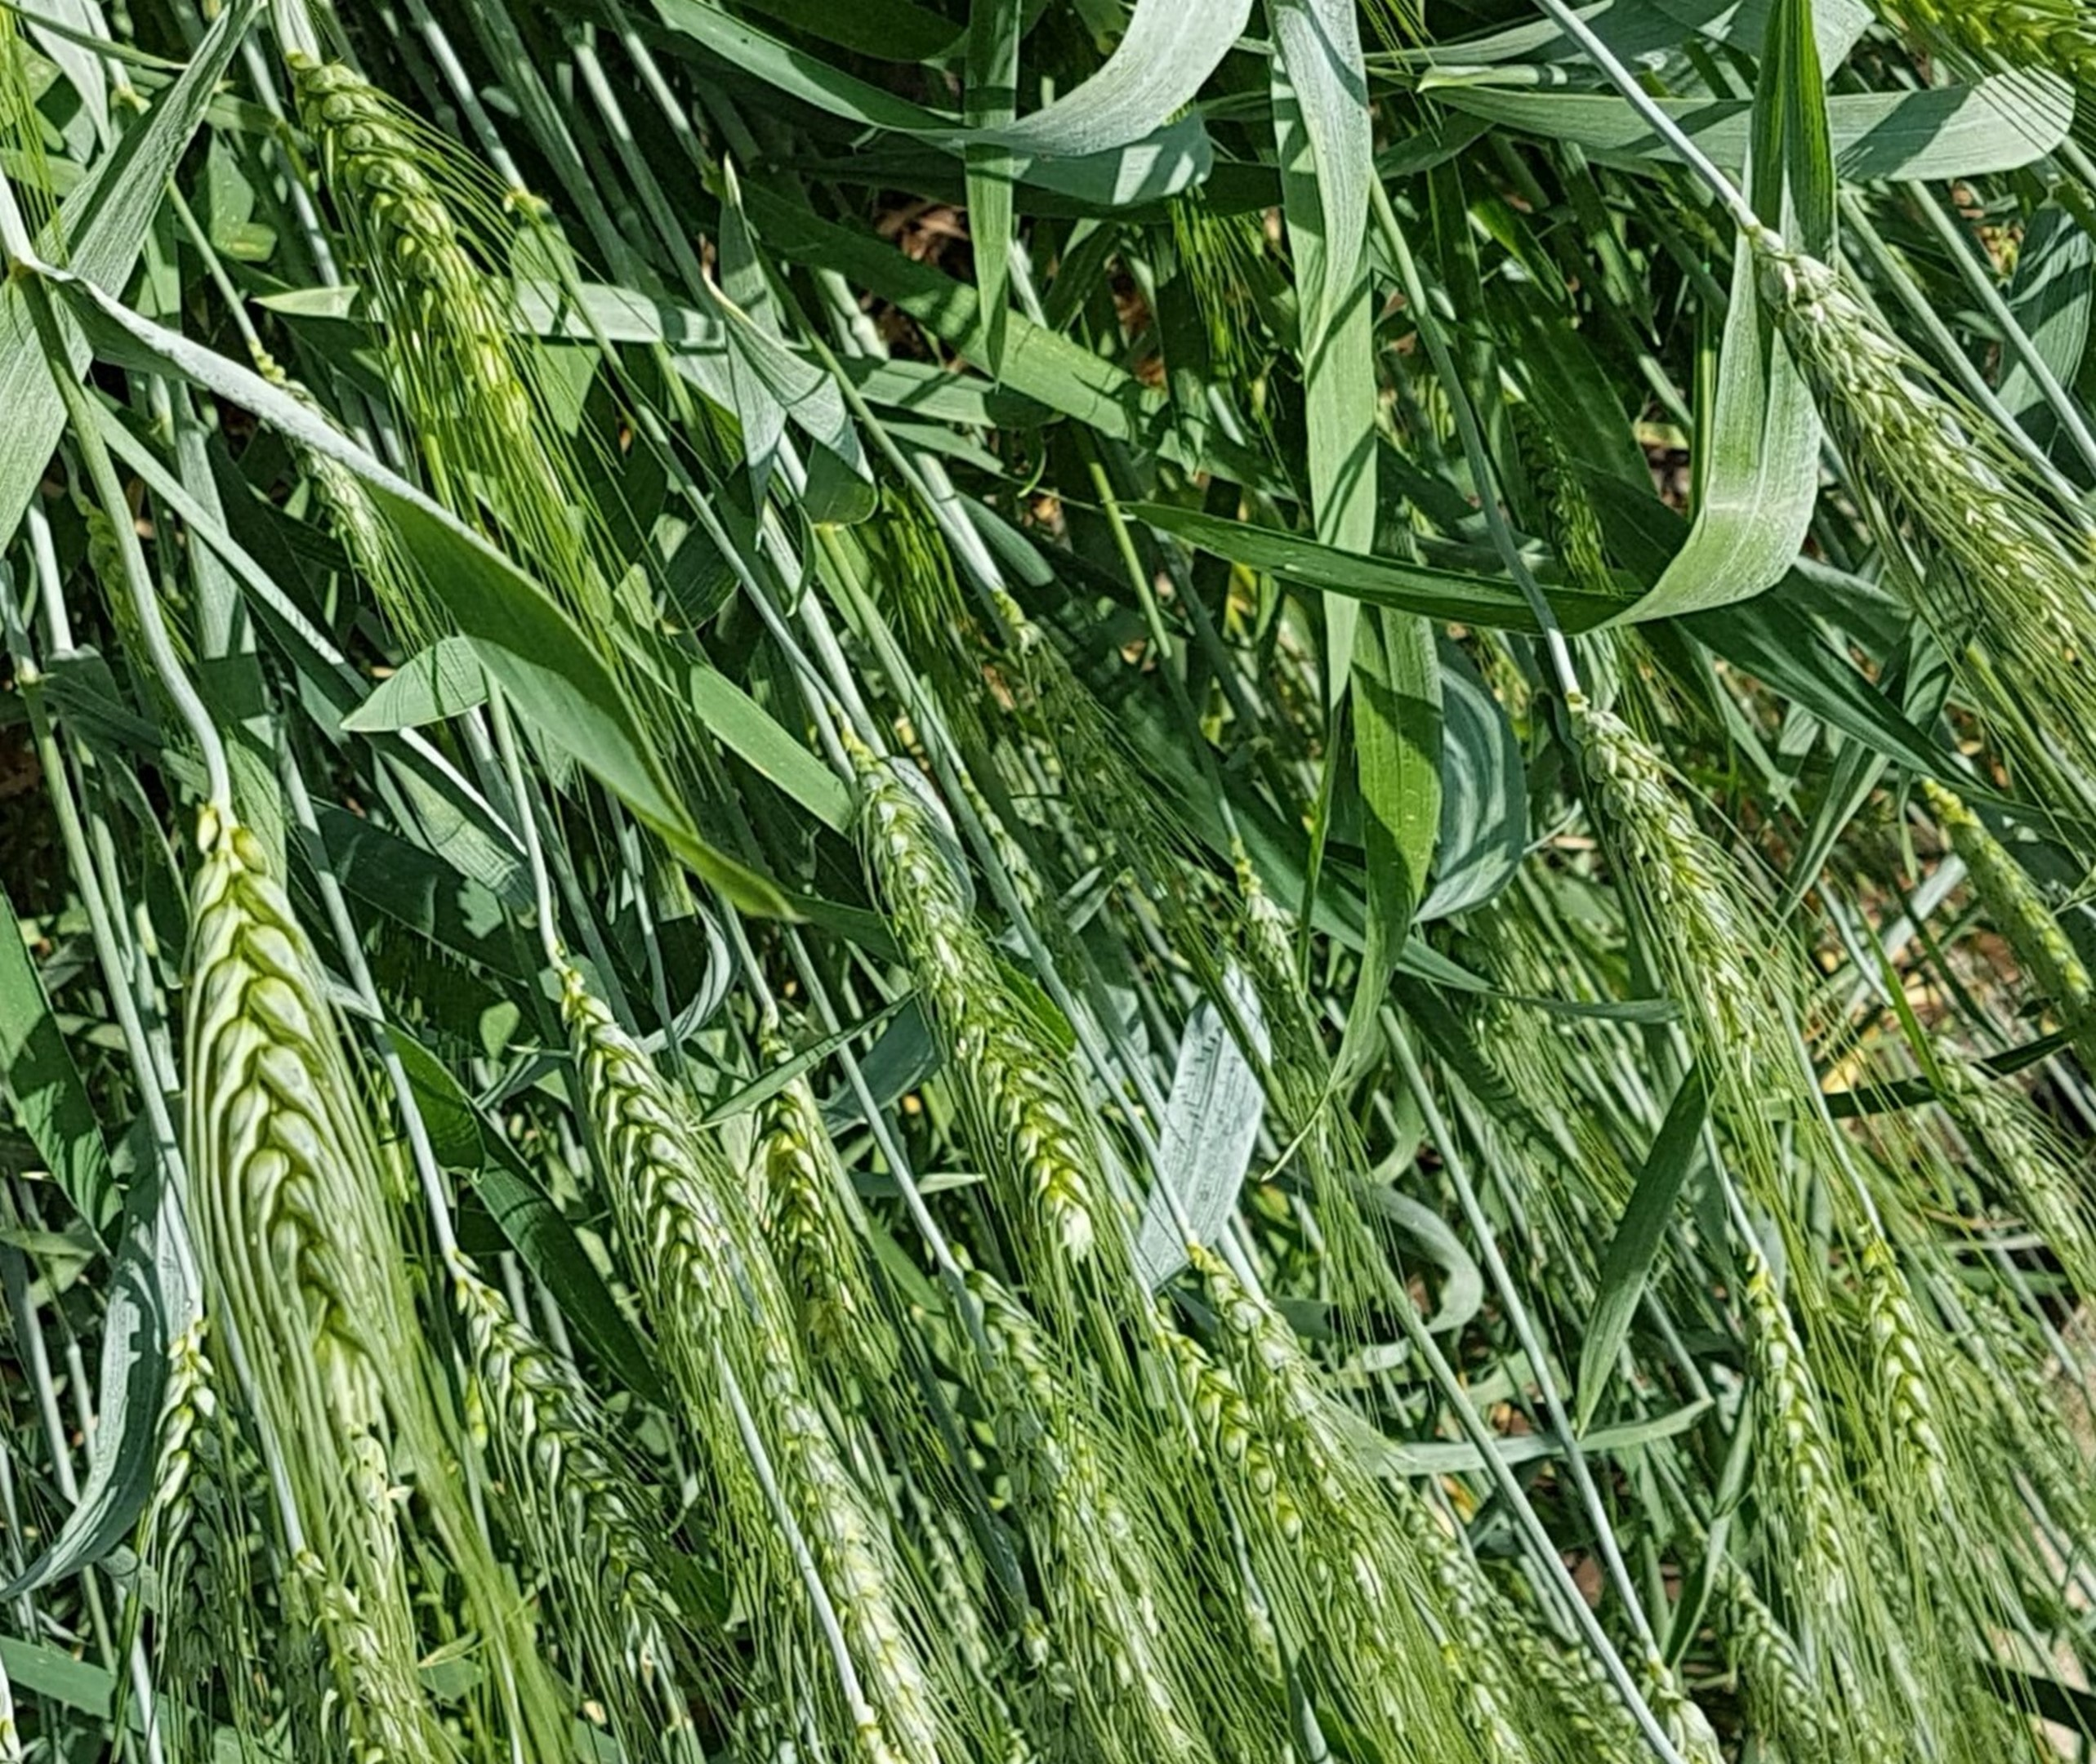Healthy Wheat: (163, 780, 418, 1426), (1744, 224, 2086, 637), (261, 31, 551, 474), (1695, 1199, 1988, 1584), (535, 957, 756, 1332), (1526, 686, 1776, 1001)
